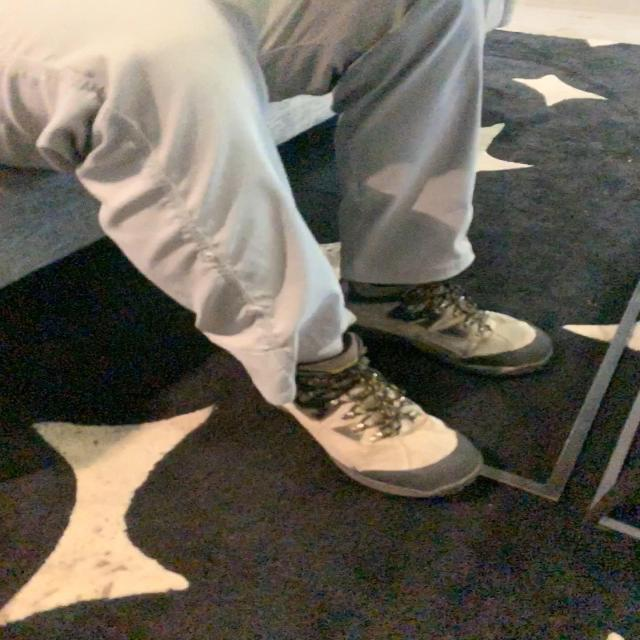shoe: (288, 335, 484, 502), (344, 283, 556, 381)
